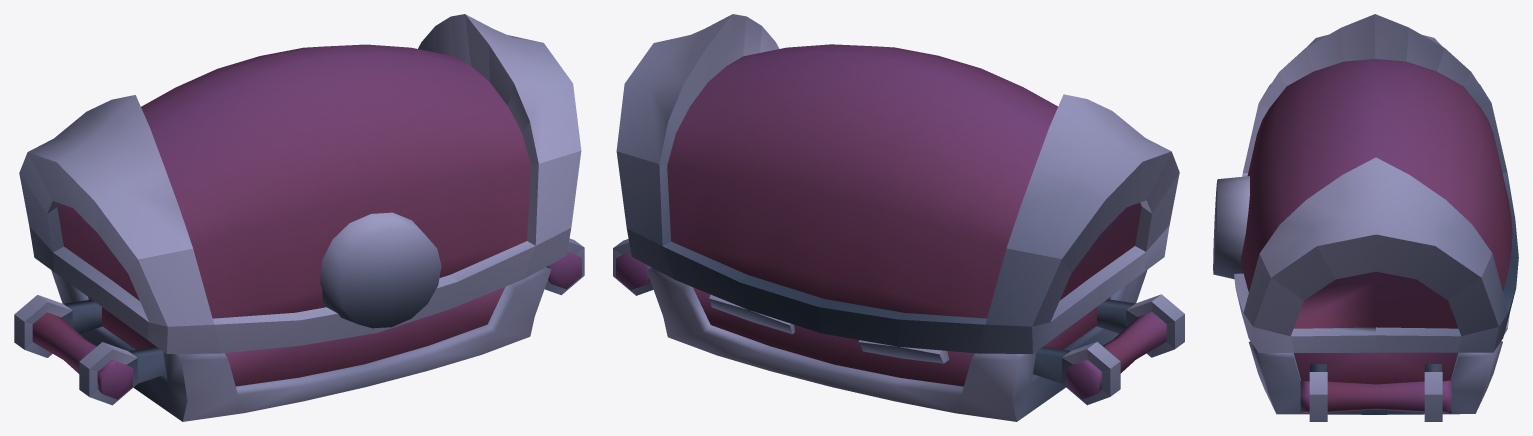
File: Chest.fbx
The picture shows the model from 3 angles, left to right: view 1: azimuth 30°, elevation 25°; view 2: azimuth 150°, elevation 25°; view 3: azimuth 270°, elevation 25°; orthographic projection. The views are drawn at different scales.
Visible parts, largest first — view 1: ChestTop, Chest; view 2: ChestTop, Chest; view 3: ChestTop, Chest.
Boxes of the visible parts, box(x1,y1,x2,y2) form: ChestTop: box(19, 14, 581, 353); Chest: box(14, 238, 584, 421); ChestTop: box(616, 14, 1179, 363); Chest: box(613, 239, 1184, 421); ChestTop: box(1213, 14, 1518, 352); Chest: box(1248, 341, 1502, 421).
Bounding box in the file's own units: 121 × 66.31 × 72.69.
Materials: 1 (1 with a texture image).
